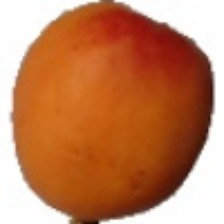apricot: (30, 31, 177, 175)
